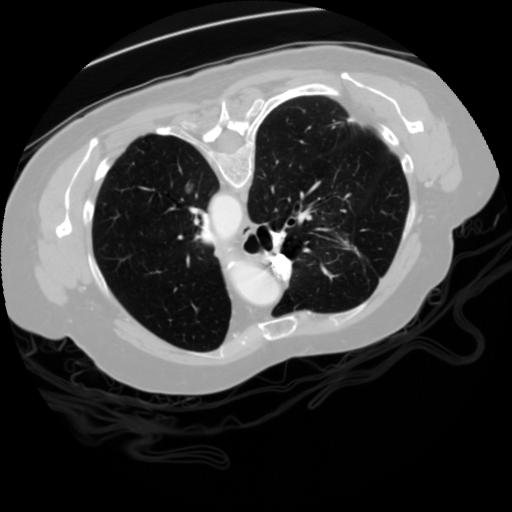nodule: (182, 181, 199, 198)
